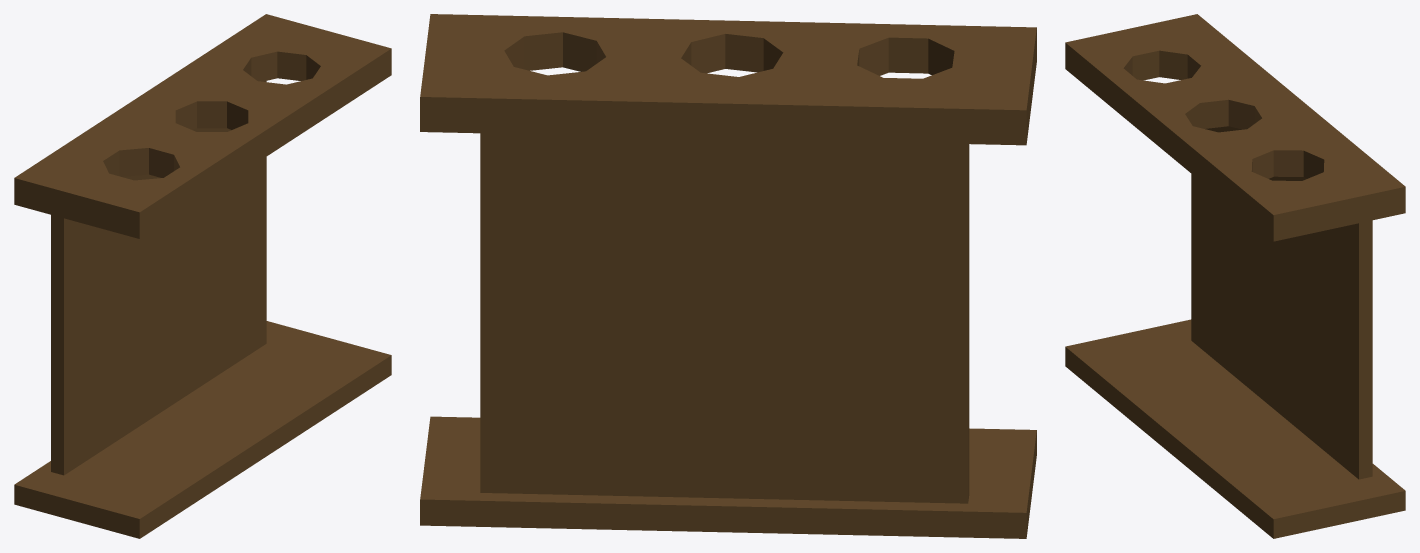
File: PotionTube_Stand.fbx
The picture shows the model from 3 angles, left to right: view 1: azimuth 30°, elevation 25°; view 2: azimuth 150°, elevation 25°; view 3: azimuth 270°, elevation 25°; orthographic projection. The views are drawn at different scales.
Parts seen in each view (by area): view 1: PotionTube_Stand.003; view 2: PotionTube_Stand.003; view 3: PotionTube_Stand.003.
Part boxes in pixels (x1,y1,x2,y2): PotionTube_Stand.003: (14, 14, 391, 538); PotionTube_Stand.003: (420, 14, 1036, 538); PotionTube_Stand.003: (1065, 14, 1405, 538).
Bounding box in the file's own units: 39.22 × 29.43 × 28.05.
